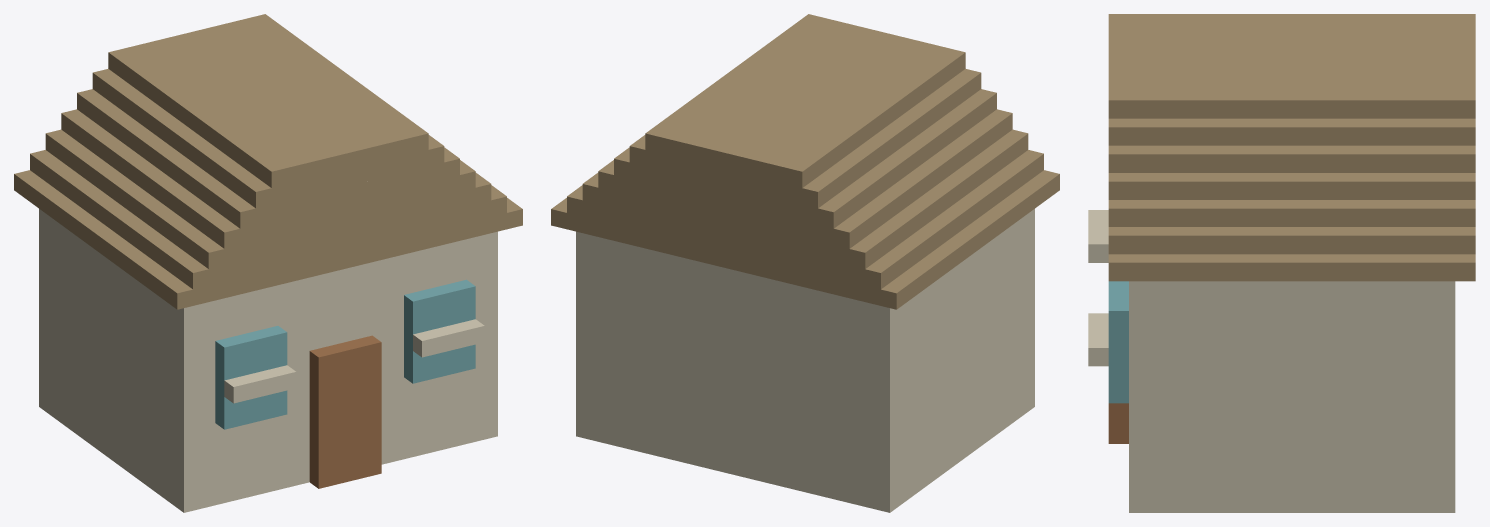
The model's file is pets-04.glb.
3 views of the same model, side by side, from view 1: azimuth 30°, elevation 25°; view 2: azimuth 150°, elevation 25°; view 3: azimuth 270°, elevation 25° (orthographic). The views are drawn at different scales.
Visible parts, largest first — view 1: Dog house; view 2: Dog house; view 3: Dog house.
Part boxes in pixels (box(x1,y1,x2,y2)): Dog house: box(14, 14, 522, 512); Dog house: box(551, 14, 1059, 512); Dog house: box(1088, 14, 1475, 512).
Bounding box in the file's own units: 1.76 × 1.6 × 1.52.
